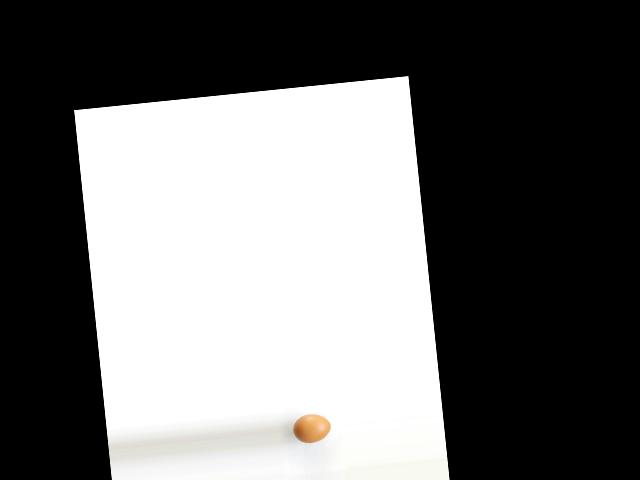egg: (291, 412, 332, 445)
